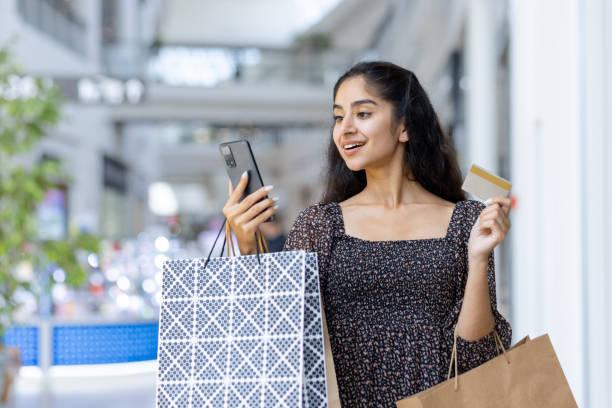Non_Gorille: (160, 22, 578, 408)
